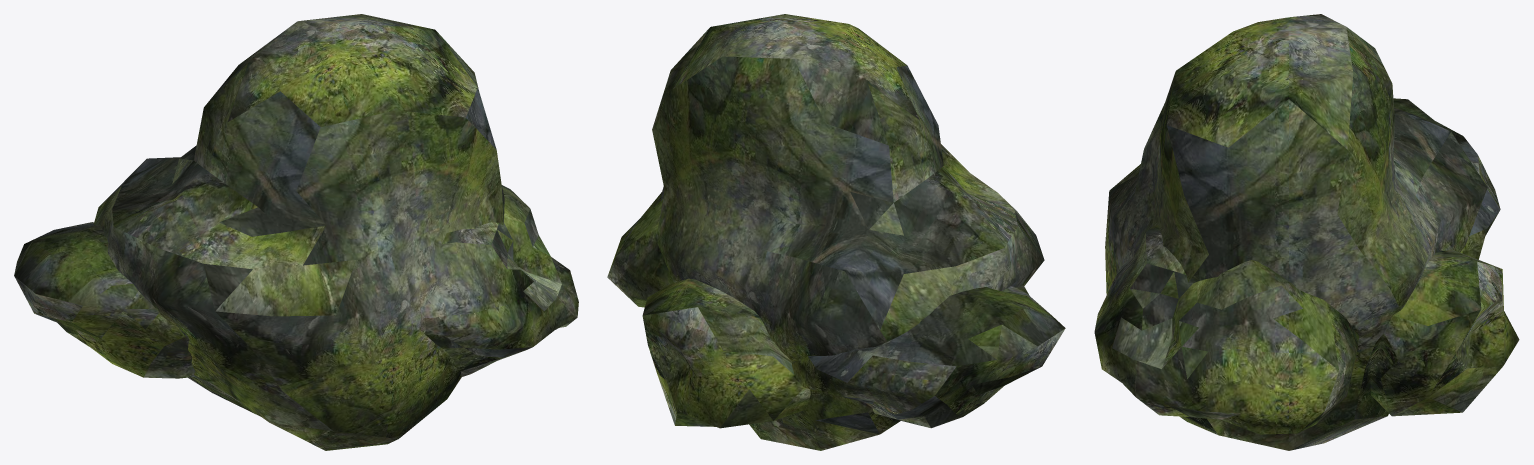
Rendered from rock_coastal_headland.glb.
The picture shows the model from 3 angles, left to right: view 1: azimuth 30°, elevation 25°; view 2: azimuth 150°, elevation 25°; view 3: azimuth 270°, elevation 25°; orthographic projection. The views are drawn at different scales.
Visible parts, largest first — view 1: rock_coastal_headland; view 2: rock_coastal_headland; view 3: rock_coastal_headland.
Boxes of the visible parts, left/top/right/bottom form: rock_coastal_headland: left=14, top=14, right=578, bottom=450; rock_coastal_headland: left=607, top=14, right=1065, bottom=450; rock_coastal_headland: left=1094, top=14, right=1519, bottom=450.
Bounding box in the file's own units: 7.19 × 5.68 × 5.35.
1 material, 1 textured.
